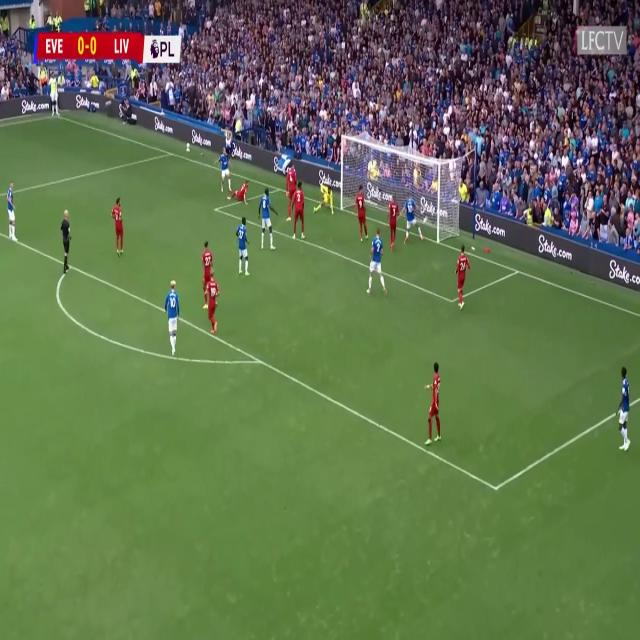Ball: (423, 215, 430, 226)
GoalKeeper: (313, 181, 335, 215)
Referee: (58, 206, 73, 275)
TEAM 1: (424, 360, 444, 445), (200, 239, 218, 309), (454, 243, 471, 310), (289, 180, 306, 240), (206, 268, 221, 336), (354, 182, 370, 244), (112, 194, 126, 258), (286, 161, 298, 221), (227, 178, 251, 204), (388, 194, 398, 252)
TEAM 2: (365, 226, 390, 298), (256, 185, 282, 251), (615, 362, 634, 452), (163, 276, 182, 359), (398, 190, 427, 244), (213, 144, 234, 195), (234, 214, 250, 278), (6, 180, 20, 242)
